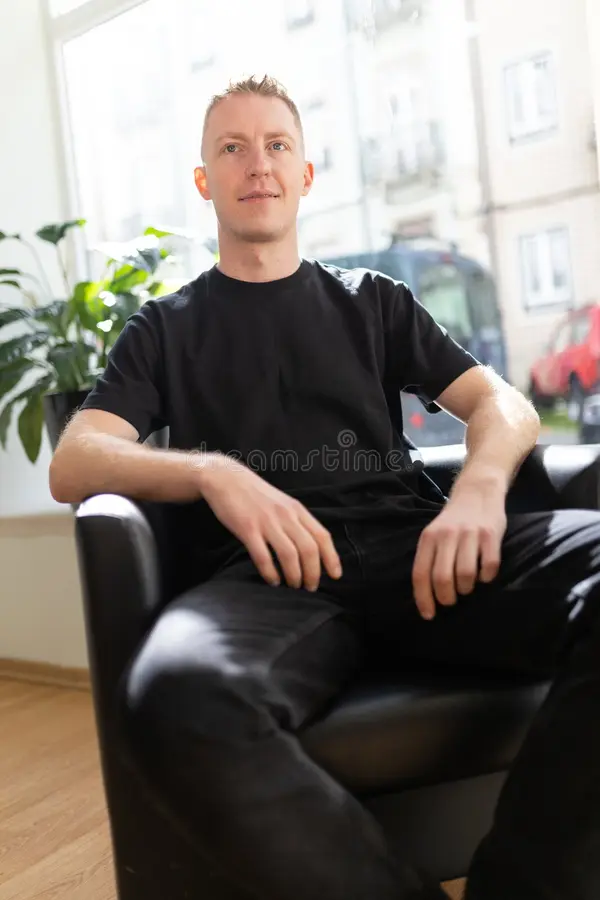Focused: (159, 64, 343, 315)
